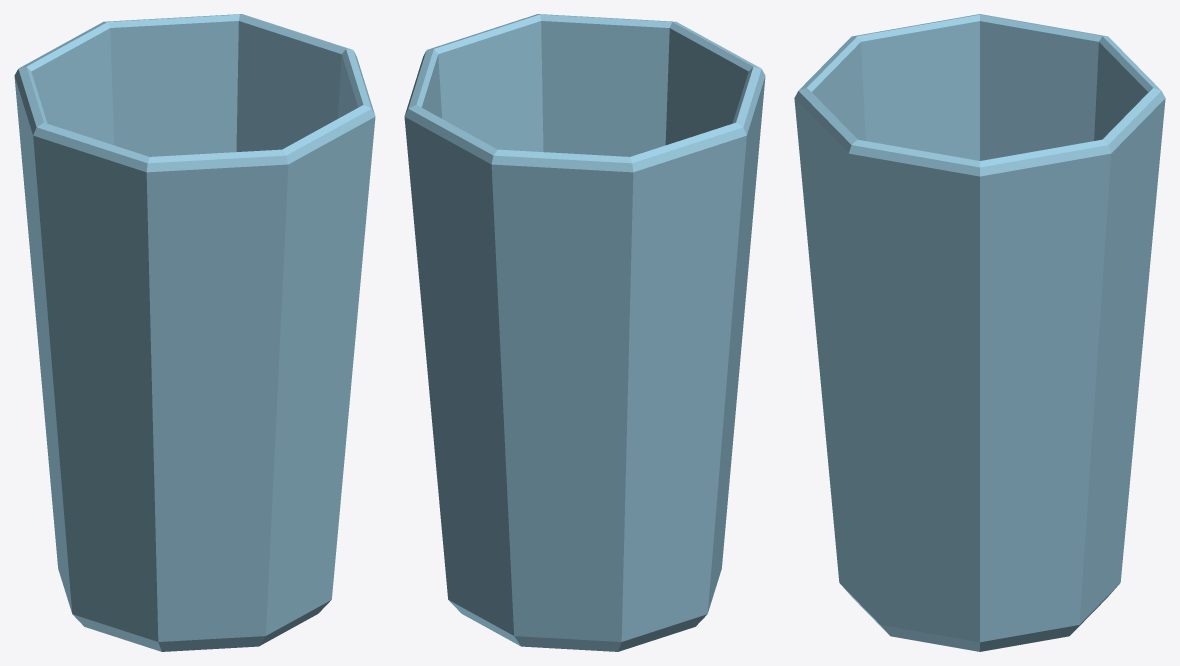
Rendered from PintGlass.fbx.
3 views of the same model, side by side, from view 1: azimuth 30°, elevation 25°; view 2: azimuth 150°, elevation 25°; view 3: azimuth 270°, elevation 25° (orthographic).
Visible parts, largest first — view 1: Cylinder; view 2: Cylinder; view 3: Cylinder.
Part boxes in pixels (left/top/right/bottom): Cylinder: left=14, top=14, right=375, bottom=651; Cylinder: left=404, top=14, right=765, bottom=651; Cylinder: left=794, top=14, right=1165, bottom=651.
Bounding box in the file's own units: 59.83 × 90.79 × 59.83.
